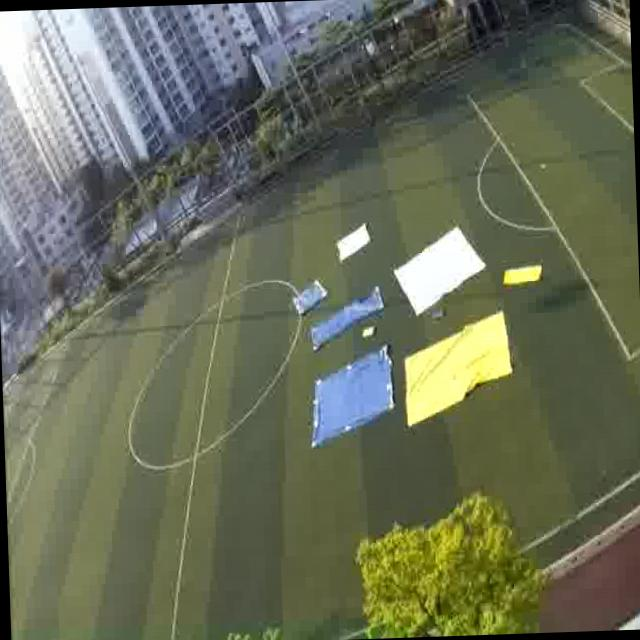danger: (312, 354, 391, 441), (290, 278, 329, 320), (340, 290, 383, 326)
safety: (396, 229, 480, 304), (334, 227, 370, 265)
warning: (417, 329, 504, 394), (501, 266, 542, 285)
